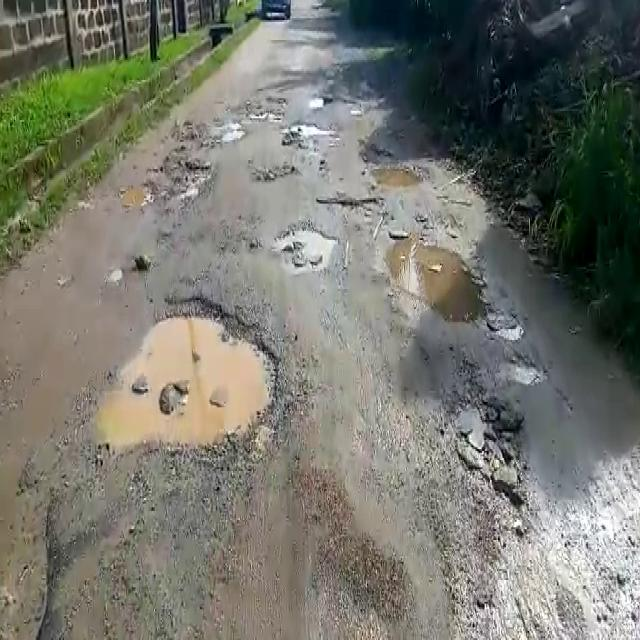Pothole: (86, 290, 287, 466), (385, 233, 492, 328), (275, 222, 336, 273), (316, 192, 388, 215), (368, 164, 426, 192), (505, 355, 544, 385), (251, 164, 303, 186), (283, 120, 340, 140), (118, 180, 153, 208)
